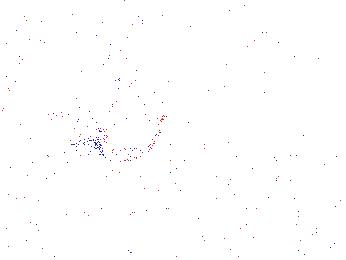moon jellyfish: (99, 74, 165, 161), (71, 55, 156, 108), (272, 22, 346, 82), (1, 5, 34, 98), (30, 23, 113, 58)
